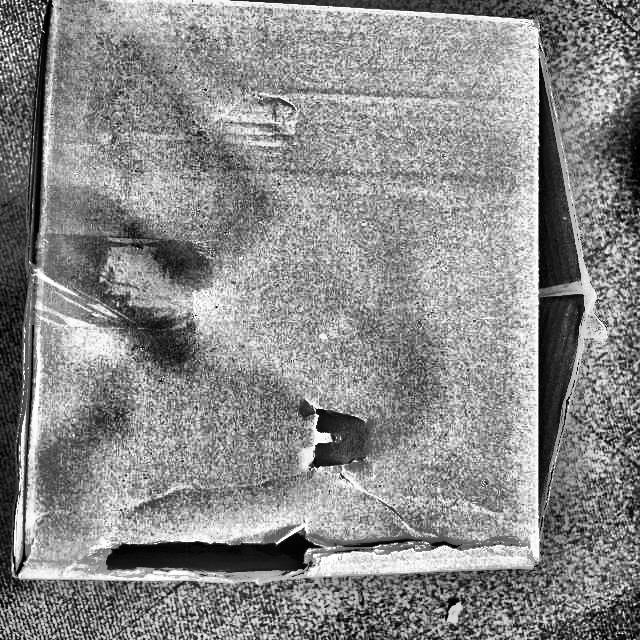box: (18, 0, 585, 599)
hole: (85, 535, 537, 583), (288, 399, 366, 475)
